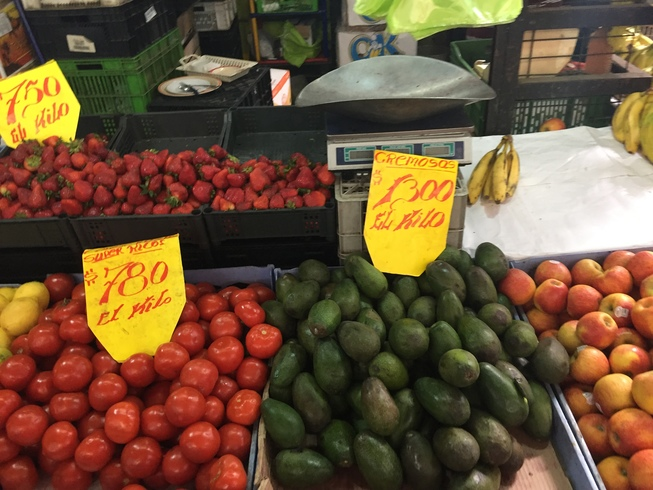precio: (83, 243, 189, 348), (365, 146, 453, 270), (1, 55, 84, 155)
